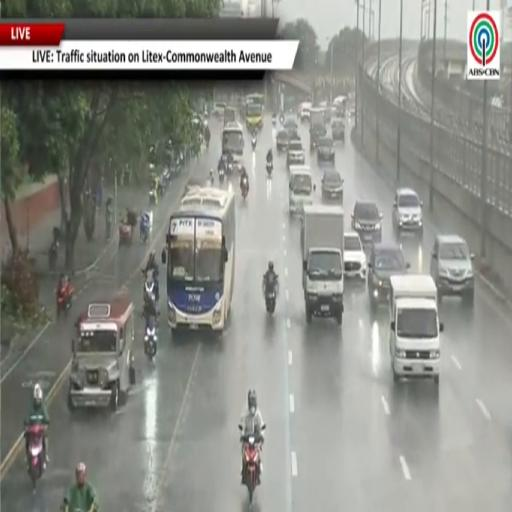bus: (162, 187, 235, 333), (222, 122, 244, 173), (222, 122, 244, 156), (246, 94, 264, 131)
car: (430, 235, 474, 306), (368, 244, 410, 309), (393, 188, 423, 236), (351, 201, 383, 245), (344, 232, 366, 282), (322, 168, 344, 201), (286, 138, 305, 170), (317, 137, 335, 164), (331, 118, 344, 142), (283, 118, 298, 137), (276, 130, 289, 151), (224, 106, 237, 125), (212, 102, 226, 118)
jeepney: (68, 292, 135, 410)
motorcycle: (241, 436, 261, 505), (26, 424, 46, 490), (262, 276, 278, 314), (57, 281, 74, 316), (144, 316, 157, 361), (48, 240, 58, 270), (144, 279, 155, 305), (140, 221, 149, 244), (106, 211, 112, 241), (241, 179, 248, 199), (149, 188, 157, 205), (205, 131, 210, 149), (219, 168, 224, 183), (252, 136, 257, 151), (267, 162, 272, 177), (227, 163, 233, 174), (210, 173, 214, 186), (272, 115, 276, 126), (280, 115, 284, 125)
tricycle: (119, 210, 137, 247)
truck: (301, 204, 344, 325), (310, 108, 326, 150)
